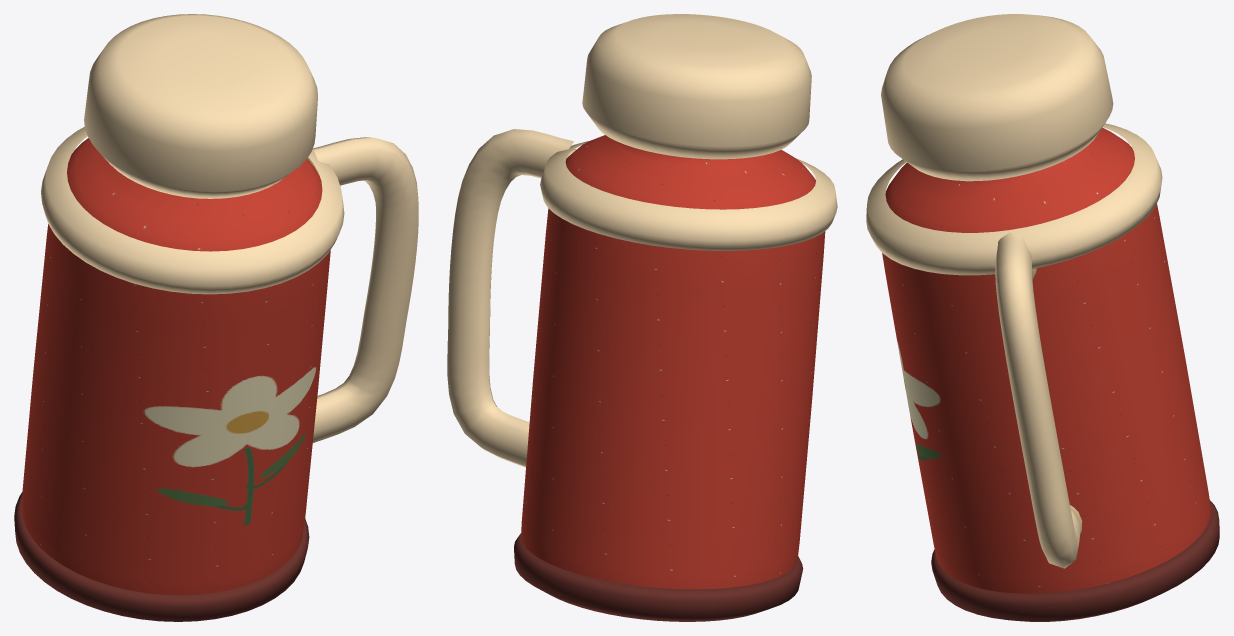
The model's file is thermos.glb.
3 views of the same model, side by side, from view 1: azimuth 30°, elevation 25°; view 2: azimuth 150°, elevation 25°; view 3: azimuth 270°, elevation 25° (orthographic).
Visible parts, largest first — view 1: Chinese household thermos; view 2: Chinese household thermos; view 3: Chinese household thermos.
Boxes of the visible parts, bbox=[...] form: Chinese household thermos: bbox=[14, 14, 418, 621]; Chinese household thermos: bbox=[447, 14, 837, 621]; Chinese household thermos: bbox=[866, 14, 1219, 621].
Size of the model in its own units: 0.6999 by 1.01 by 0.5961.
Materials: 4 (1 with a texture image).
